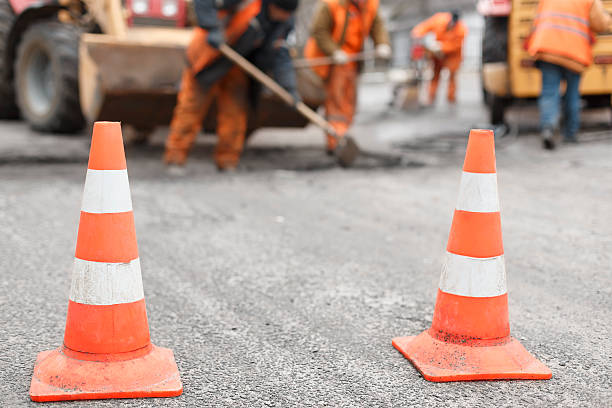cones: (30, 121, 187, 400), (393, 129, 555, 384)
